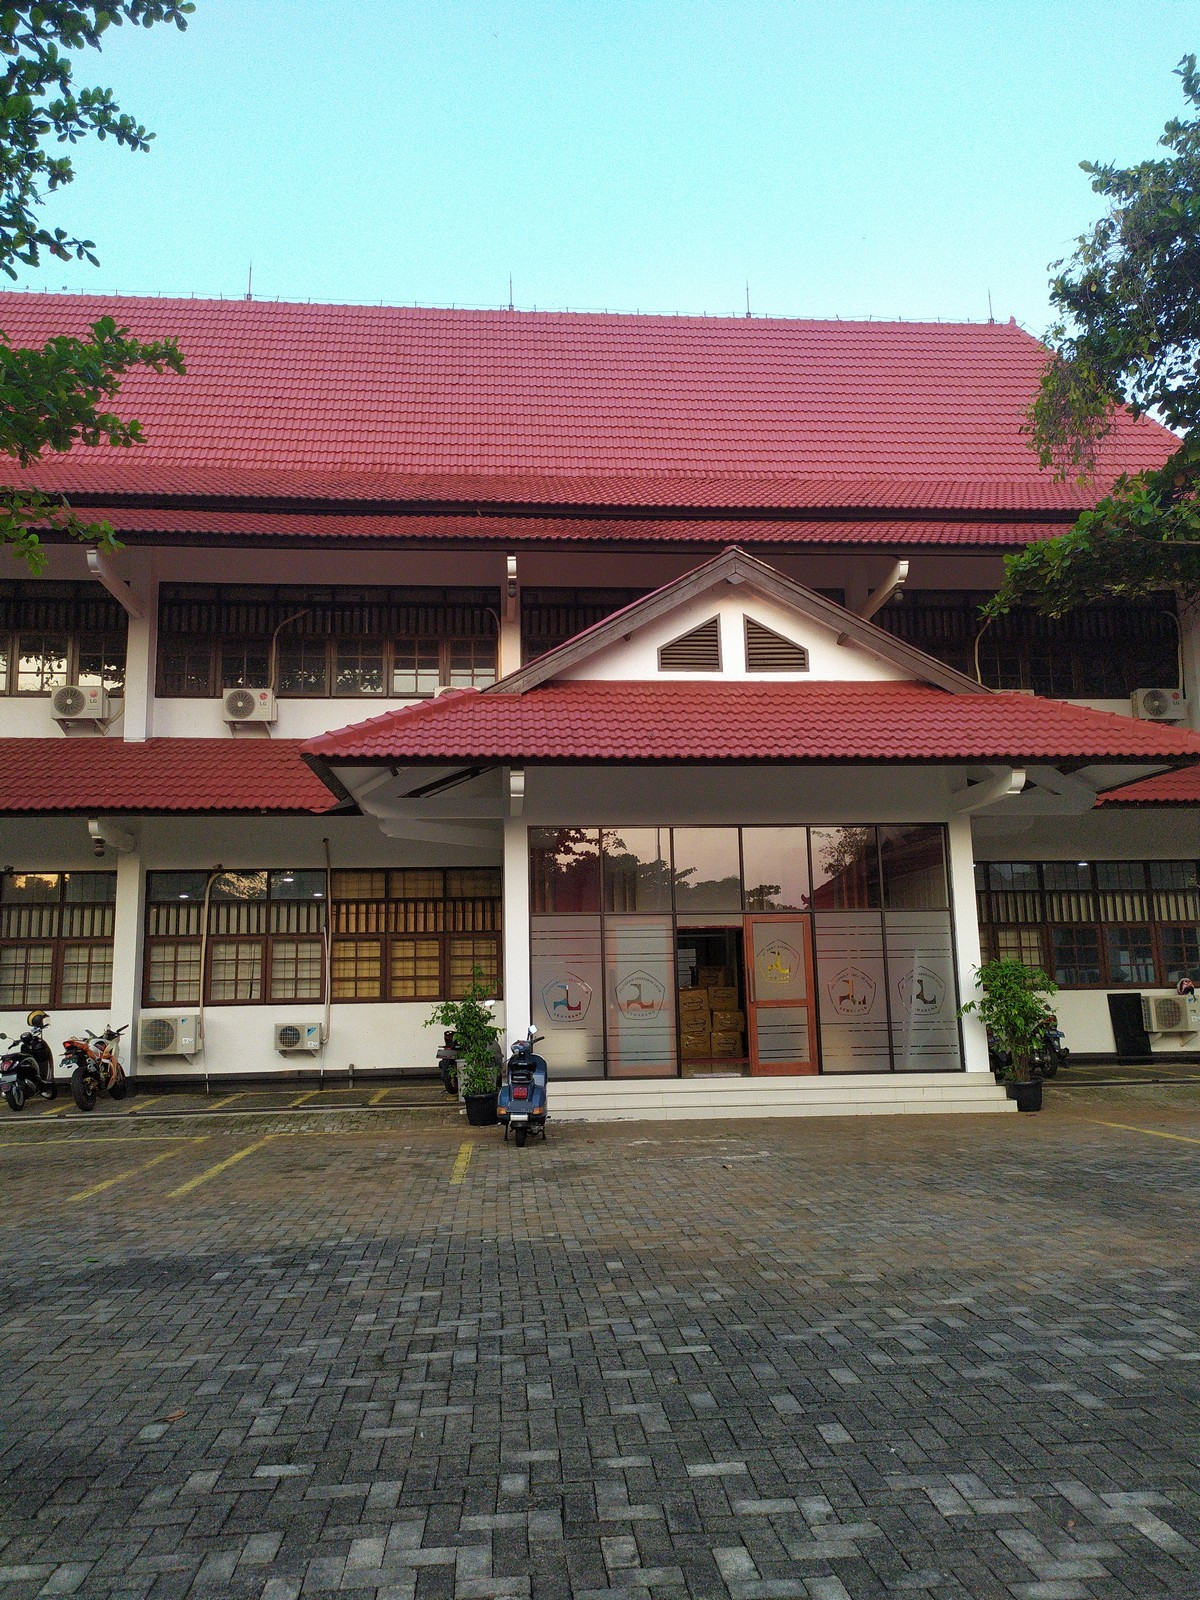concrete column: (103, 834, 151, 1070), (117, 567, 160, 741)
